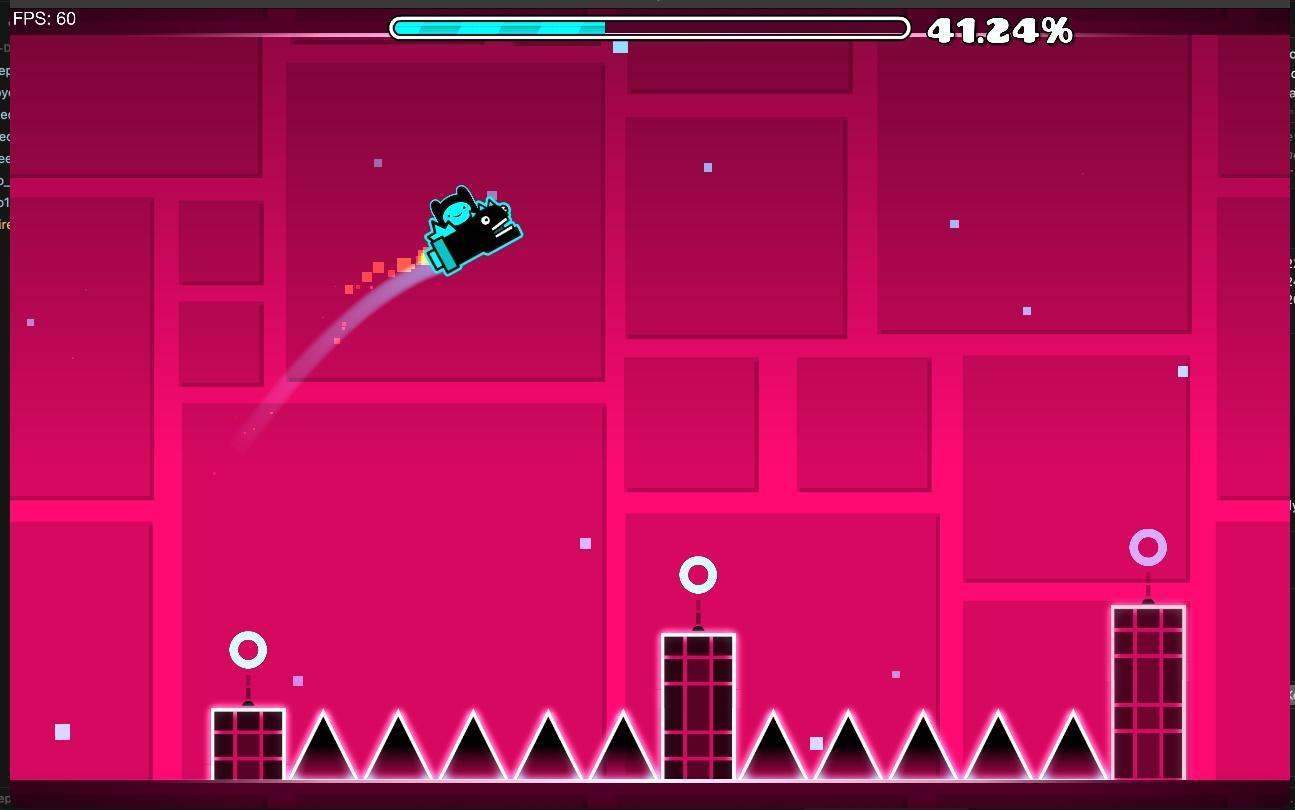block: (1114, 606, 1186, 780), (660, 636, 737, 780), (211, 709, 284, 780)
spaceship: (424, 185, 523, 274)
spike: (286, 703, 661, 785), (736, 709, 1109, 777)
